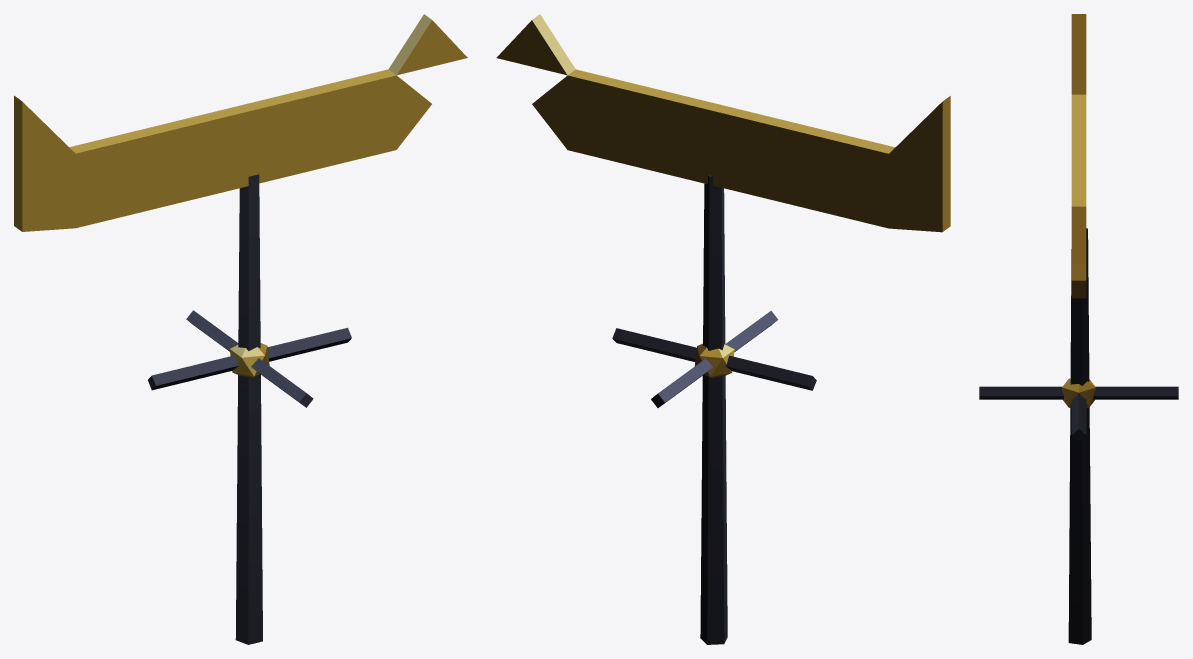
The model's file is weather_vane.glb.
3 views of the same model, side by side, from view 1: azimuth 30°, elevation 25°; view 2: azimuth 150°, elevation 25°; view 3: azimuth 270°, elevation 25° (orthographic). The views are drawn at different scales.
Visible parts, largest first — view 1: weather_vane; view 2: weather_vane; view 3: weather_vane.
Part boxes in pixels (box(x1,y1,x2,y2)): weather_vane: box(14, 14, 467, 644); weather_vane: box(496, 14, 950, 644); weather_vane: box(979, 14, 1178, 644).
Bounding box in the file's own units: 0.5 × 0.64 × 0.22.
